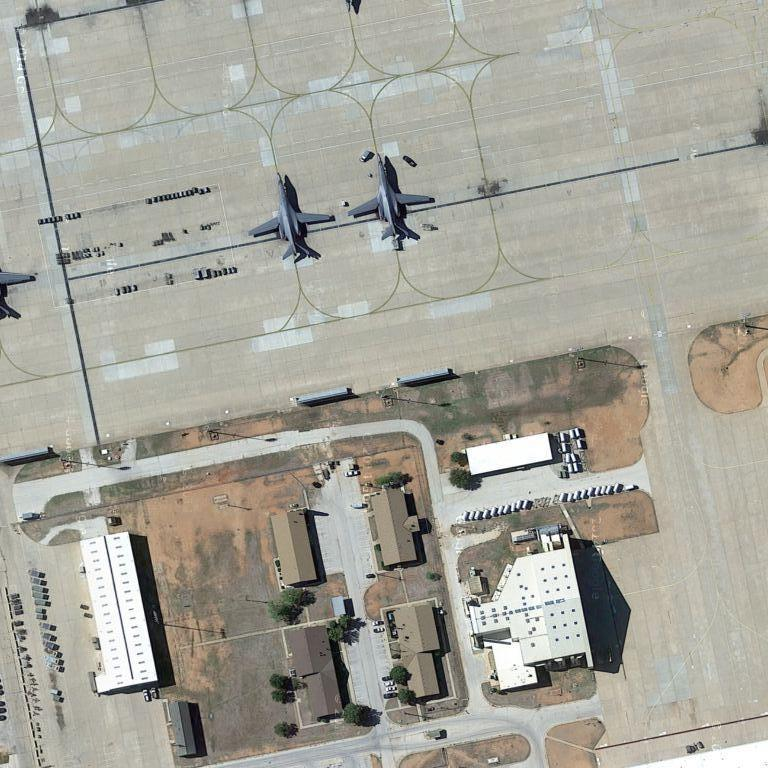B-1B: (248, 167, 340, 267), (349, 148, 438, 246)
